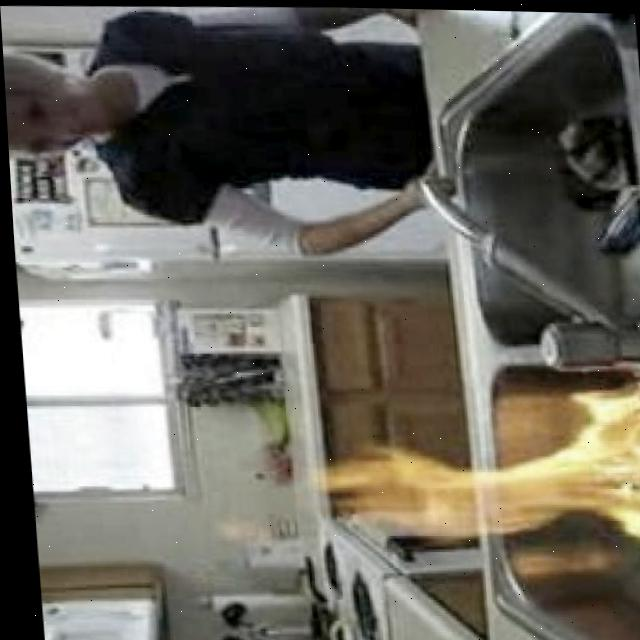Fire: (308, 388, 640, 547)
